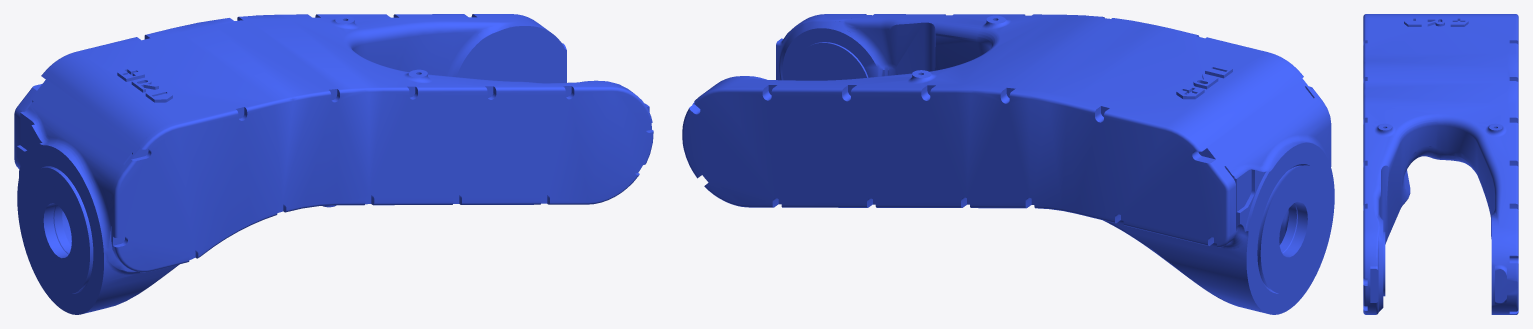
The picture shows the model from 3 angles, left to right: view 1: azimuth 30°, elevation 25°; view 2: azimuth 150°, elevation 25°; view 3: azimuth 270°, elevation 25°; orthographic projection. The views are drawn at different scales.
Visible parts, largest first — view 1: R_Axis; view 2: R_Axis; view 3: R_Axis.
Boxes of the visible parts, x1,y1,x2,y2 form: R_Axis: [14, 14, 653, 314]; R_Axis: [682, 14, 1334, 314]; R_Axis: [1363, 14, 1518, 314].
Bounding box in the file's own units: 0.5618 × 0.182 × 0.2.
